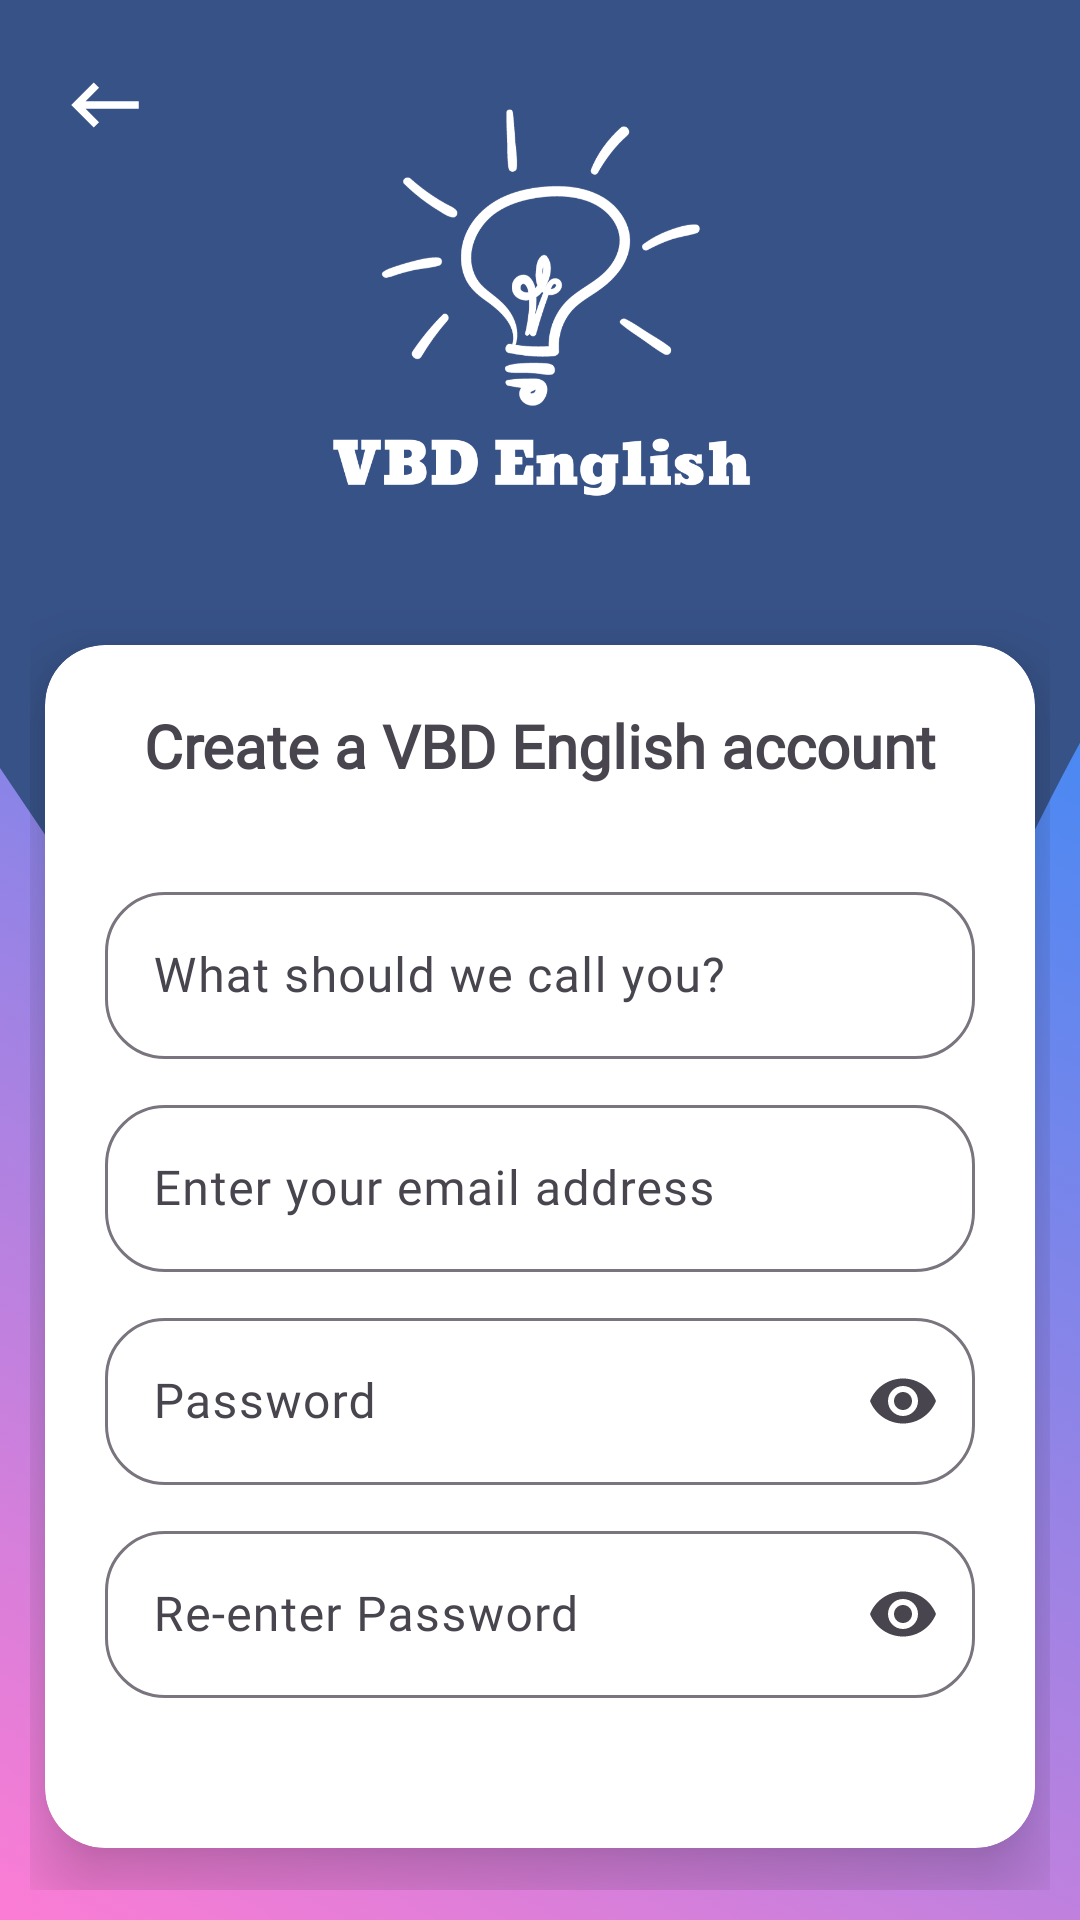

Where to tap for icons on this 1080×1920 app screen, as (x=x, y=y):
keyboard backspace: (x=105, y=105)
